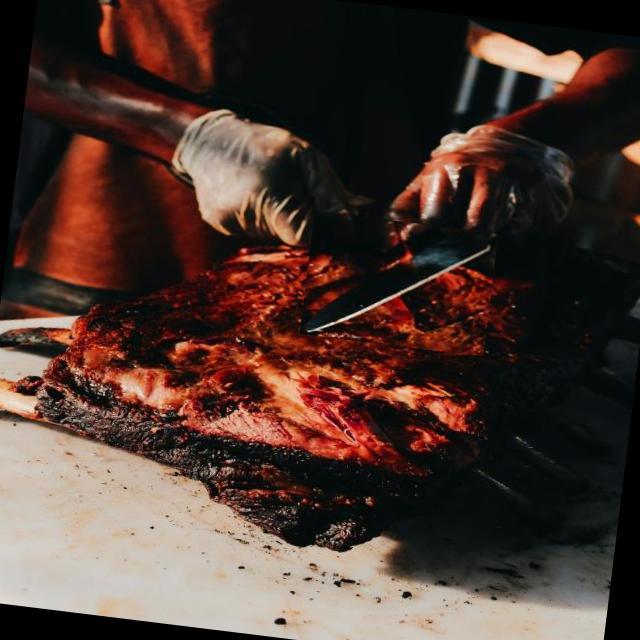Knife: (299, 230, 497, 336)
